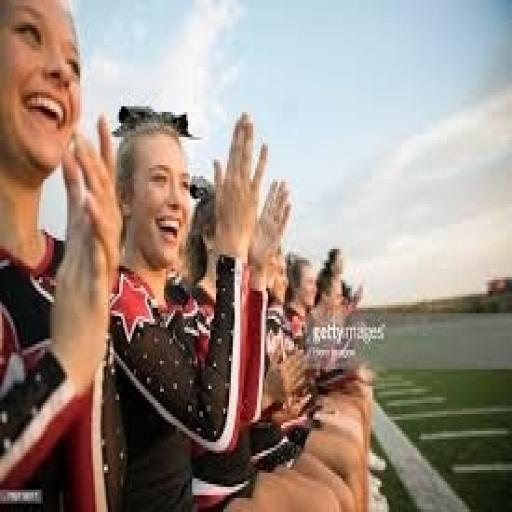clapping: (0, 0, 378, 509)
